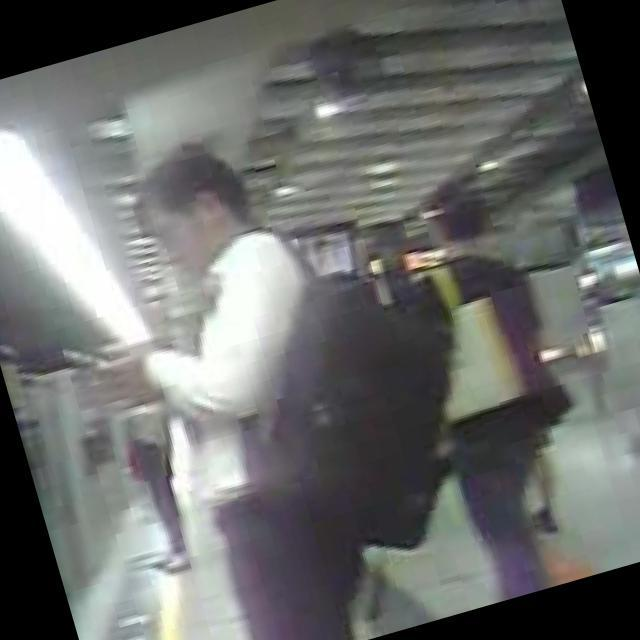person: (82, 124, 416, 640), (372, 187, 618, 606)
